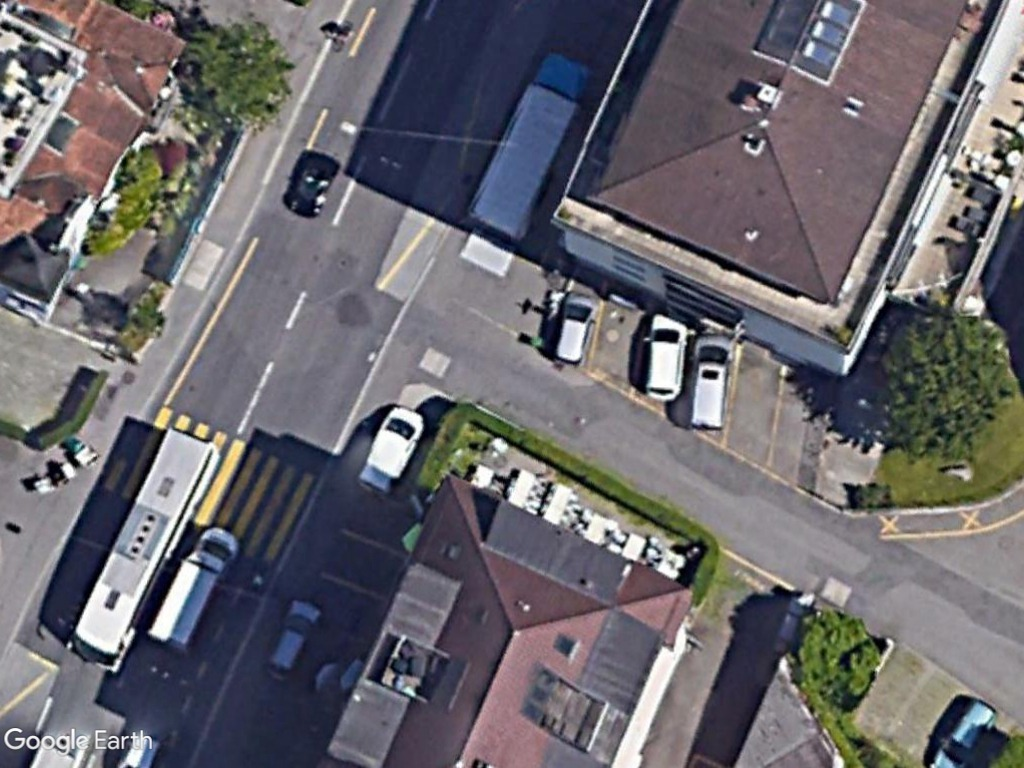car: (356, 402, 427, 496), (685, 331, 734, 436), (641, 309, 689, 406), (265, 598, 322, 678), (550, 289, 598, 369)
truck: (65, 427, 218, 673), (465, 53, 594, 244), (147, 523, 241, 654)
